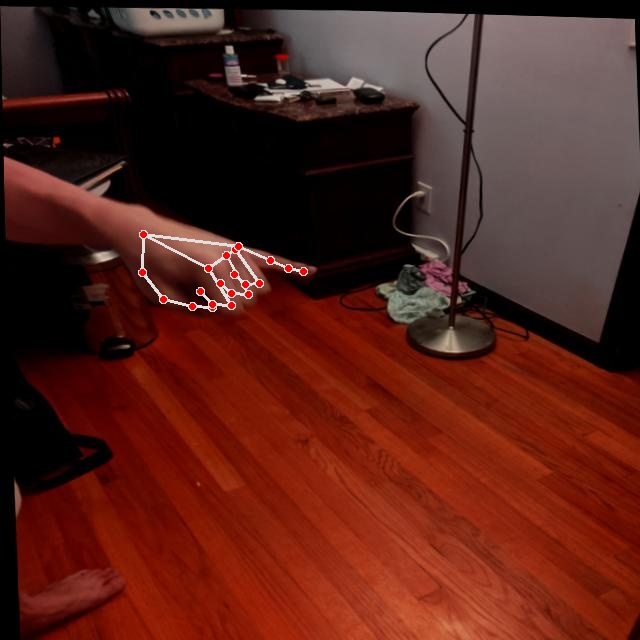J: (96, 192, 322, 330)
